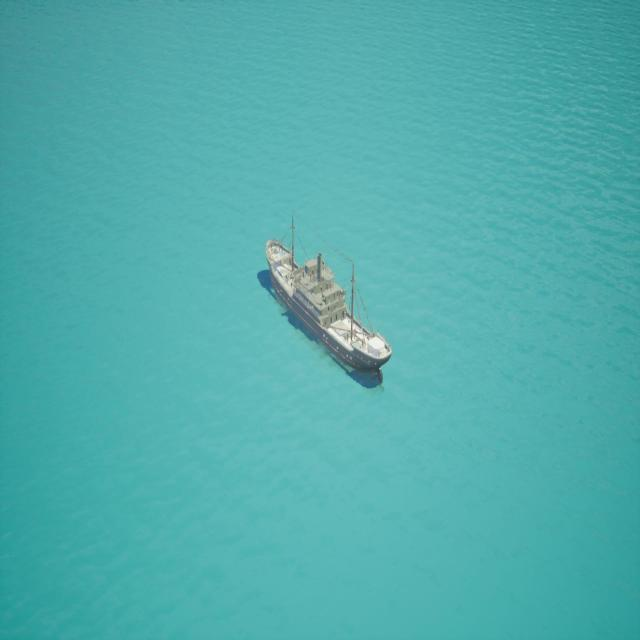fishing ship: (258, 228, 391, 386)
